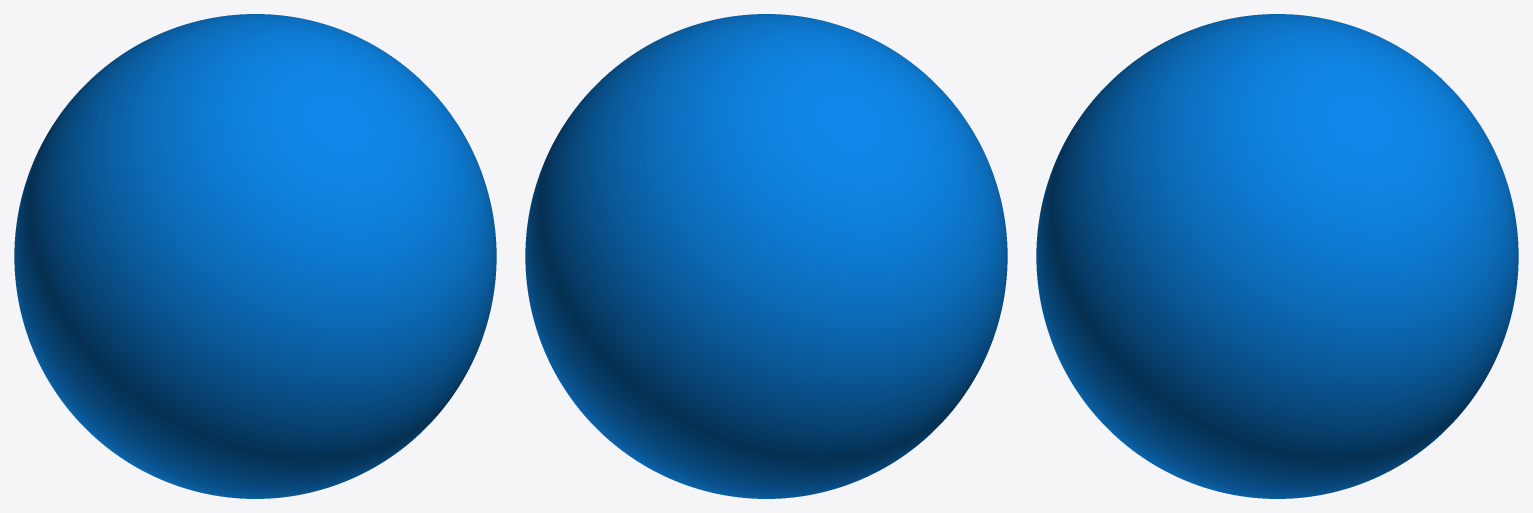
The model's file is balltest.glb.
3 renders of one model, left to right at view 1: azimuth 30°, elevation 25°; view 2: azimuth 150°, elevation 25°; view 3: azimuth 270°, elevation 25°, orthographic.
Visible parts, largest first — view 1: 球体; view 2: 球体; view 3: 球体.
Boxes of the visible parts, <box> form: 球体: <box>14,14,496,498</box>; 球体: <box>525,14,1007,498</box>; 球体: <box>1036,14,1518,498</box>.
Bounding box in the file's own units: 0.495 × 0.5002 × 0.495.
